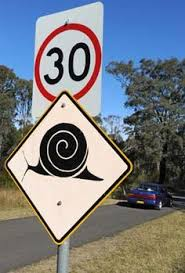sp30: (32, 27, 112, 97)
